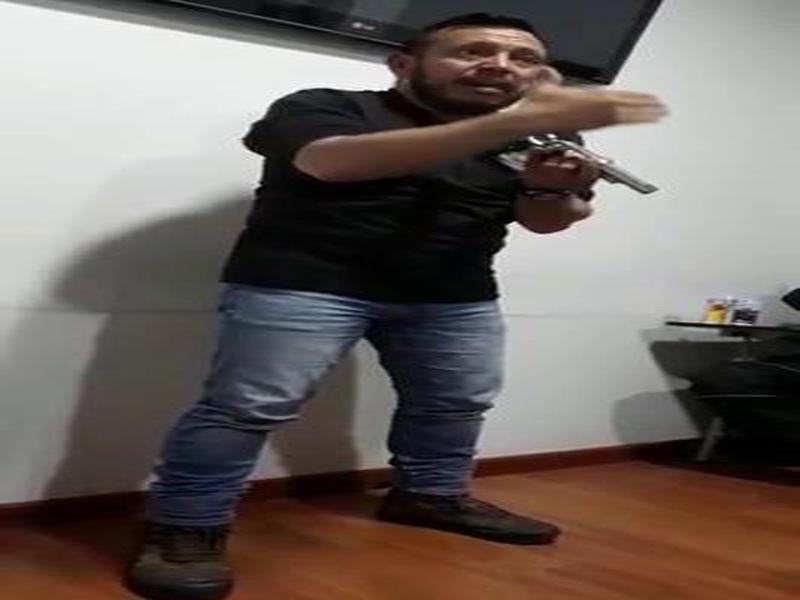Revolver: (482, 99, 673, 240)
